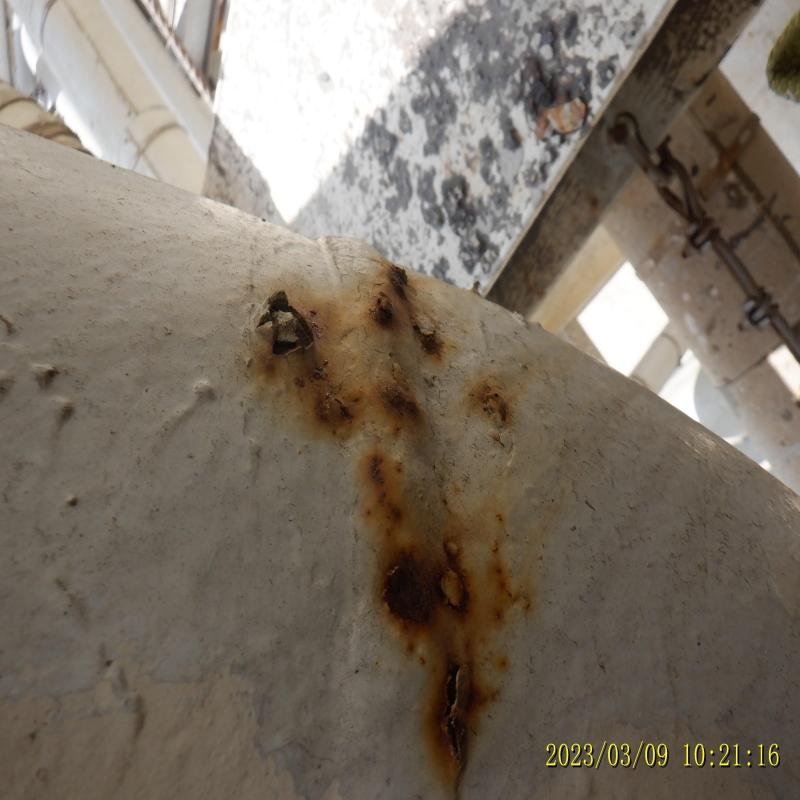corrosion: (399, 537, 477, 720), (269, 282, 326, 368), (366, 252, 418, 324), (318, 386, 372, 426)
